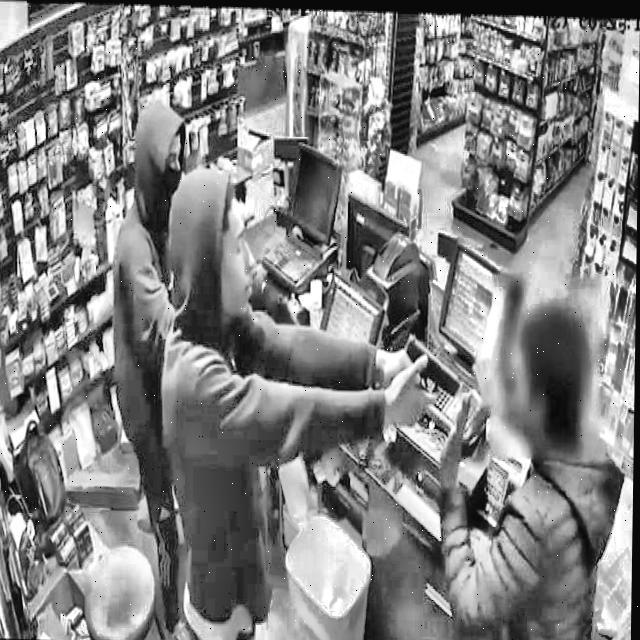pistol: (396, 330, 474, 422)
robbery: (103, 98, 629, 640)
